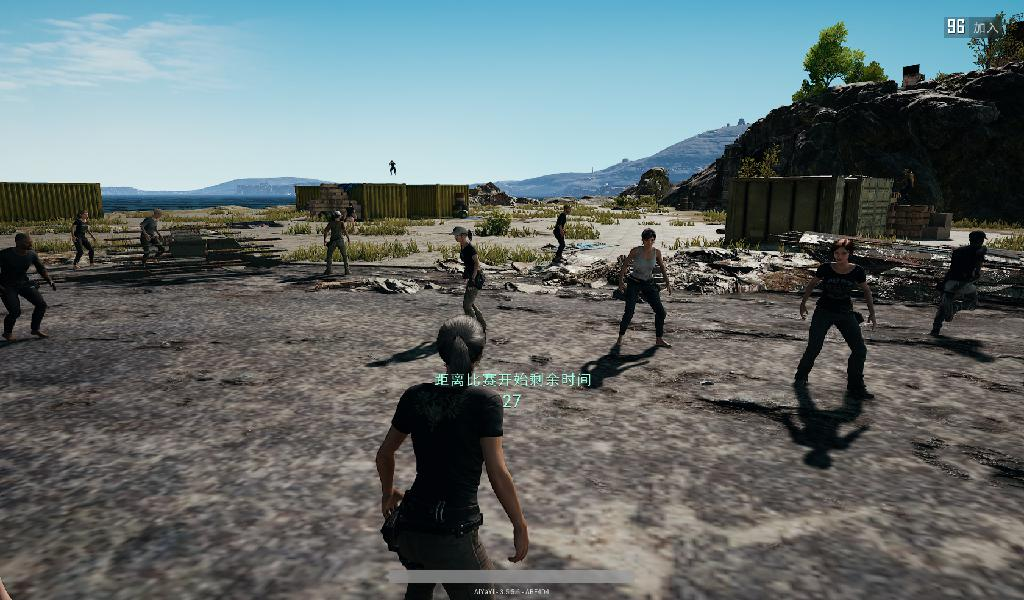Target Person: (375, 315, 530, 600), (794, 238, 877, 403), (611, 227, 675, 348), (931, 229, 988, 340), (1, 232, 56, 339), (444, 225, 486, 329), (67, 206, 97, 273), (323, 211, 352, 277), (138, 206, 165, 269), (553, 204, 572, 272), (344, 202, 358, 239), (386, 158, 397, 177)
